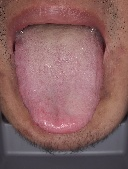tongue: (13, 31, 105, 134)
